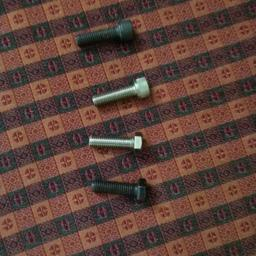screwtype1black: (74, 17, 137, 47)
screwtype1silver: (83, 76, 154, 108)
screwtype2black: (88, 174, 150, 206)
screwtype2silver: (85, 130, 144, 161)
